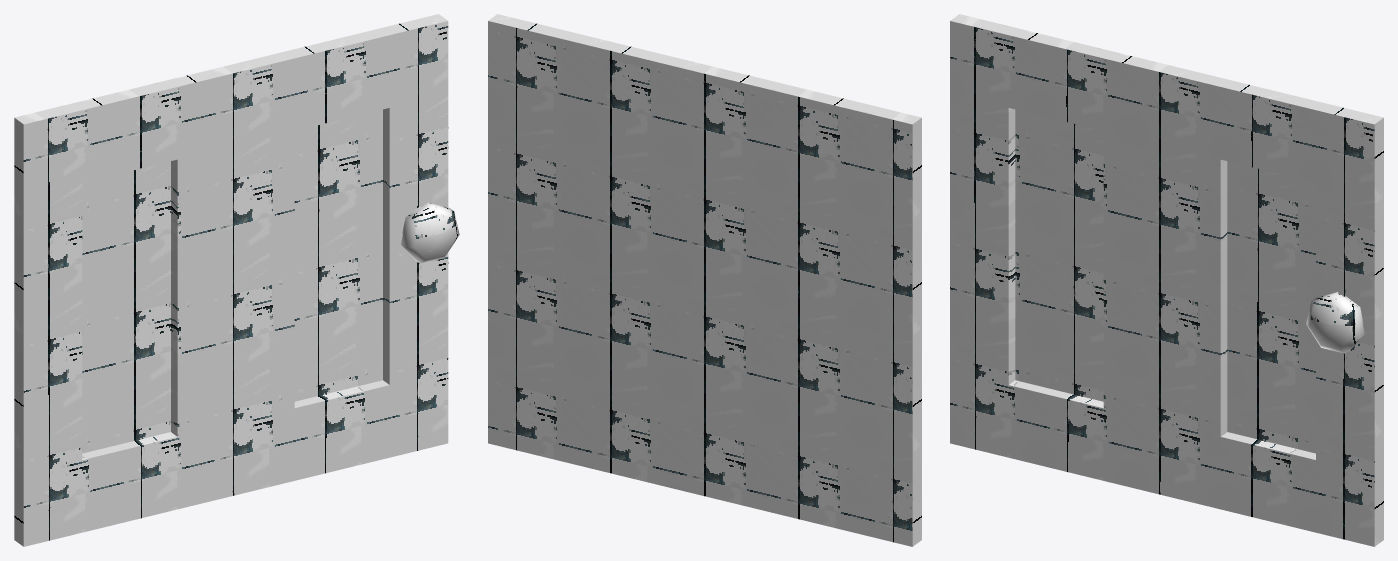
The model's file is ShelfBottomDoor.FBX.
3 views of the same model, side by side, from view 1: azimuth 30°, elevation 25°; view 2: azimuth 150°, elevation 25°; view 3: azimuth 330°, elevation 25° (orthographic).
Parts seen in each view (by area): view 1: ShelfDrawerBottomDoor; view 2: ShelfDrawerBottomDoor; view 3: ShelfDrawerBottomDoor.
Part boxes in pixels (x1,y1,x2,y2): ShelfDrawerBottomDoor: (14,14,459,546); ShelfDrawerBottomDoor: (488,14,921,546); ShelfDrawerBottomDoor: (950,14,1383,546).
Bounding box in the file's own units: 1.22 × 0.1411 × 1.16.
1 material, 1 textured.
